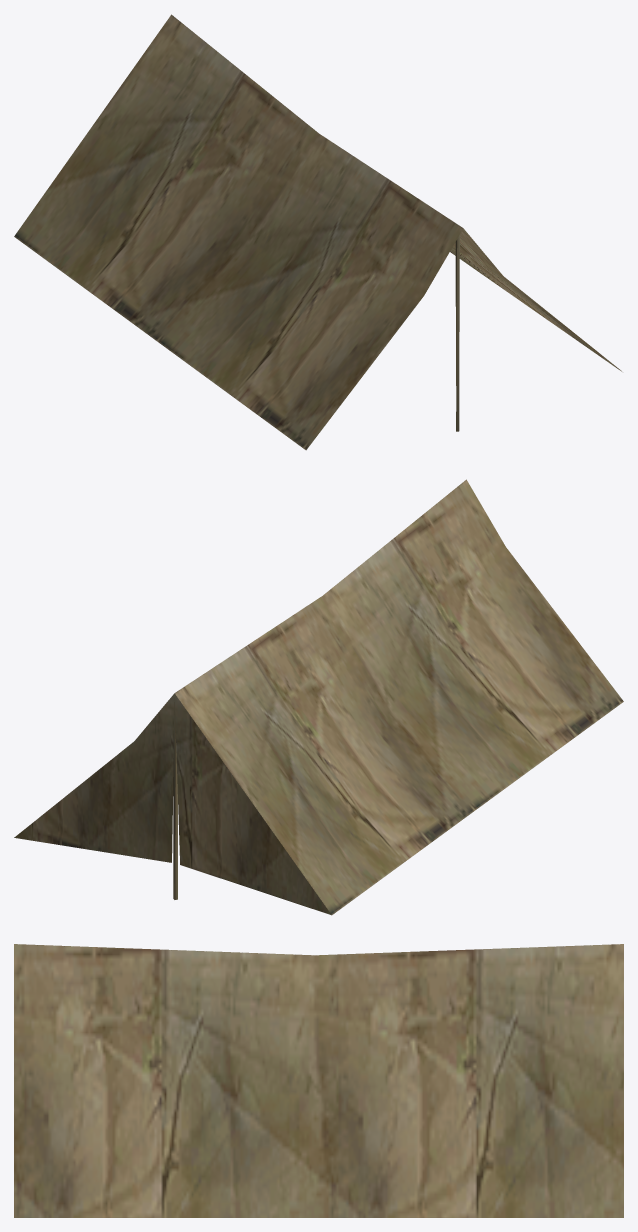
File: Dtent1.glb
The picture shows the model from 3 angles, top to bottom: view 1: azimuth 30°, elevation 25°; view 2: azimuth 150°, elevation 25°; view 3: azimuth 270°, elevation 25°; orthographic projection. The views are drawn at different scales.
Parts seen in each view (by area): view 1: _Dtent1; view 2: _Dtent1; view 3: _Dtent1.
Part boxes in pixels (left/top/right/bottom): _Dtent1: left=14, top=14, right=621, bottom=450; _Dtent1: left=14, top=479, right=623, bottom=915; _Dtent1: left=14, top=944, right=623, bottom=1217.
Bounding box in the file's own units: 7.32 × 4.55 × 11.64.
Materials: 1 (1 with a texture image).
